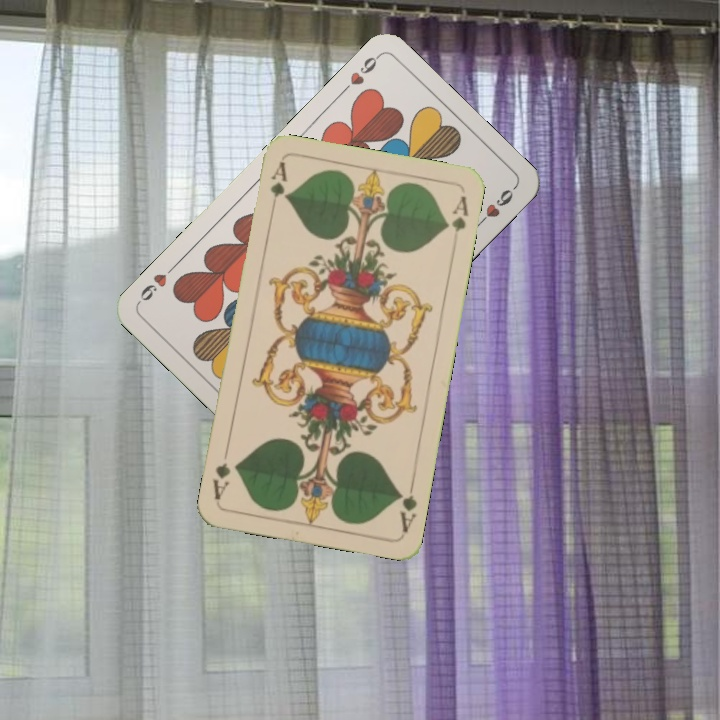GA: (394, 476, 420, 535), (266, 158, 290, 217)
H9: (336, 51, 383, 97)
